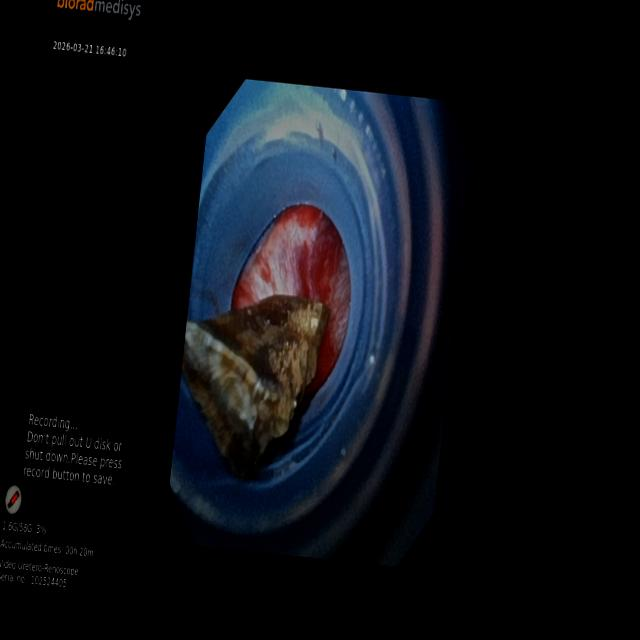stone-new: (181, 295, 330, 477)
